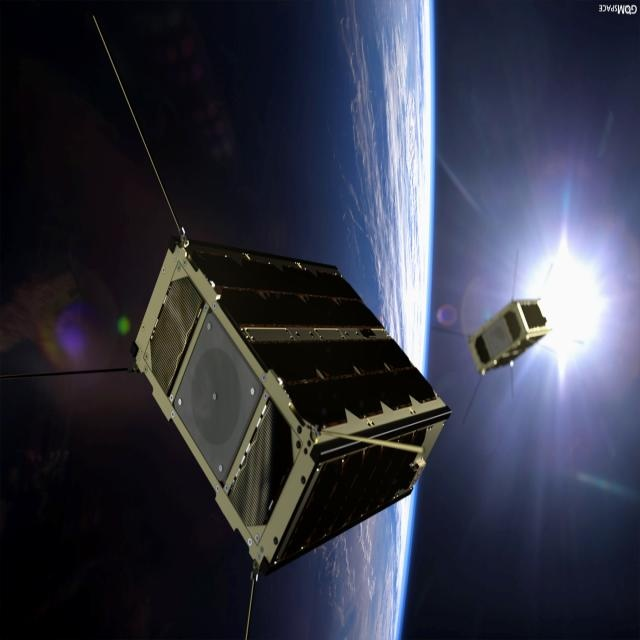satellite: (37, 68, 454, 619), (454, 257, 565, 415)
